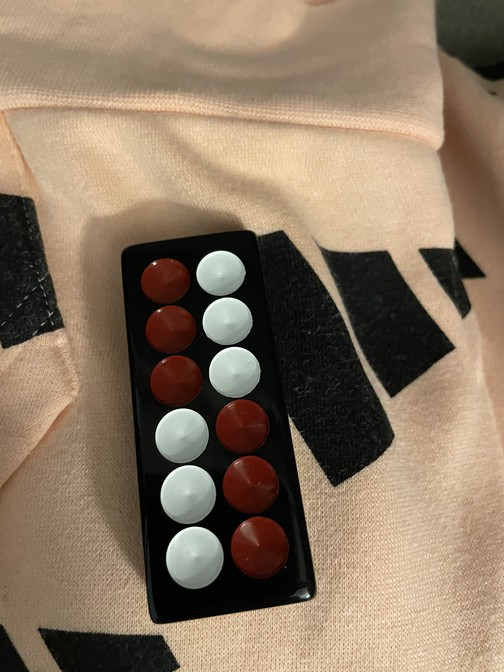heaven: (122, 230, 318, 625)
